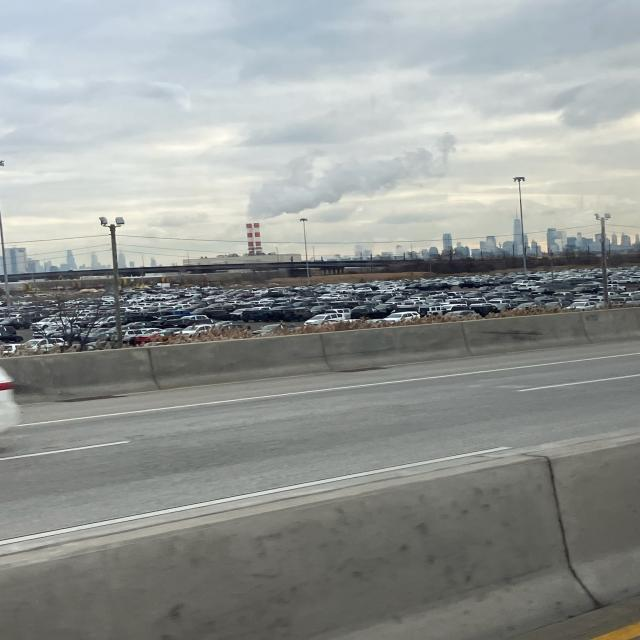WTC: (512, 209, 523, 242)
